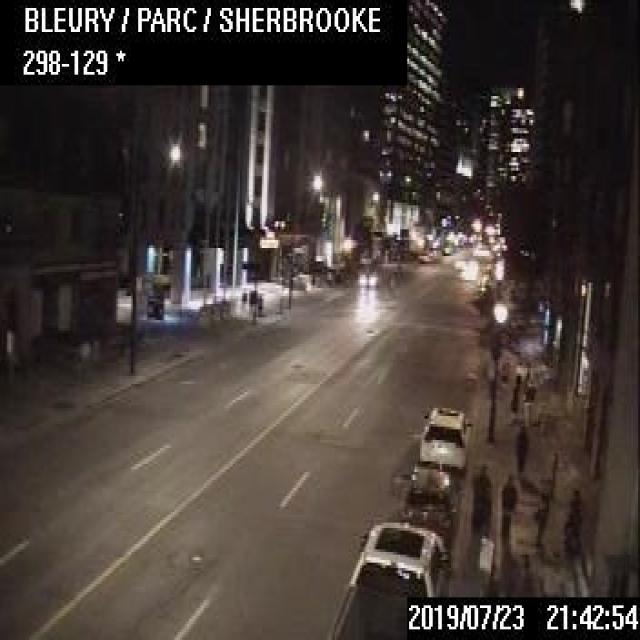pedestrian: (500, 472, 516, 541), (477, 461, 491, 531), (530, 486, 546, 544), (522, 379, 536, 424), (515, 424, 527, 472), (255, 291, 262, 314), (240, 286, 245, 310)
vehicle: (329, 520, 447, 638), (396, 460, 456, 529), (418, 403, 470, 470)
